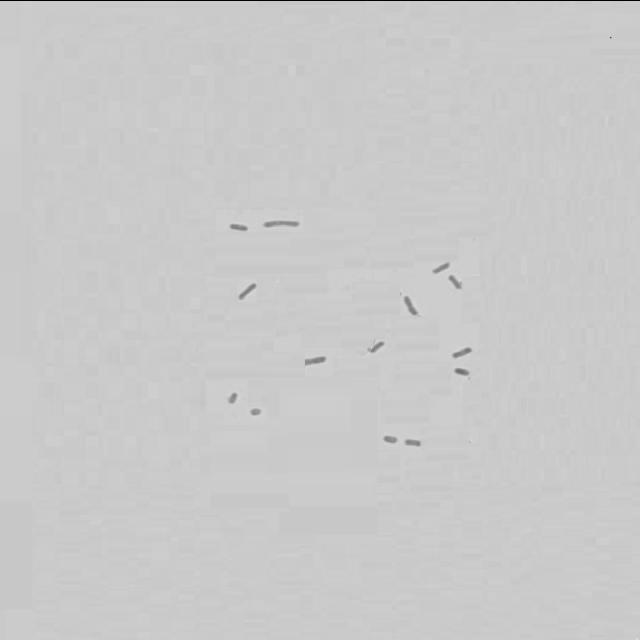E-coli: (398, 290, 420, 316), (234, 279, 260, 300), (262, 217, 304, 230), (451, 341, 477, 360), (426, 259, 454, 273), (224, 219, 254, 232), (364, 337, 387, 353), (447, 272, 463, 292), (302, 355, 328, 366), (225, 391, 241, 405), (246, 405, 264, 417), (407, 434, 425, 446), (449, 367, 472, 375), (384, 433, 400, 443)
